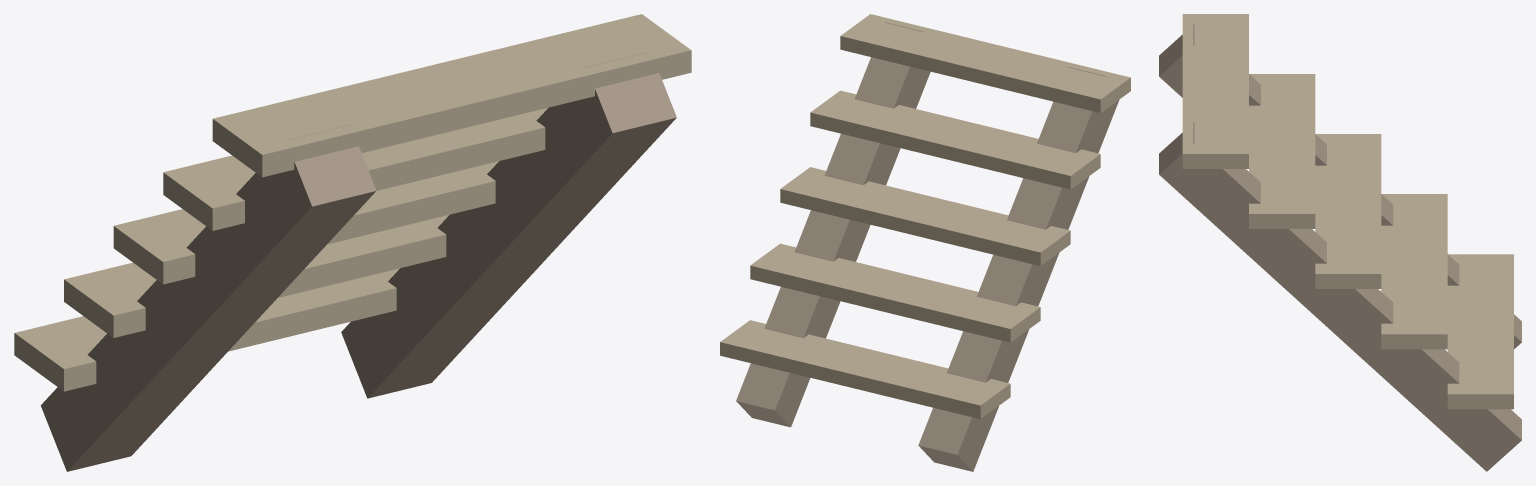
File: Prop_Docks_Steps.glb
3 renders of one model, left to right at view 1: azimuth 30°, elevation 25°; view 2: azimuth 150°, elevation 25°; view 3: azimuth 270°, elevation 25°, orthographic. The views are drawn at different scales.
Visible parts, largest first — view 1: Prop_Docks_Steps_Merged; view 2: Prop_Docks_Steps_Merged; view 3: Prop_Docks_Steps_Merged.
Boxes of the visible parts, x1,y1,x2,y2 form: Prop_Docks_Steps_Merged: [14, 14, 691, 471]; Prop_Docks_Steps_Merged: [720, 14, 1130, 471]; Prop_Docks_Steps_Merged: [1159, 14, 1521, 471].
Size of the model in its own units: 1 by 1.1 by 1.1.
